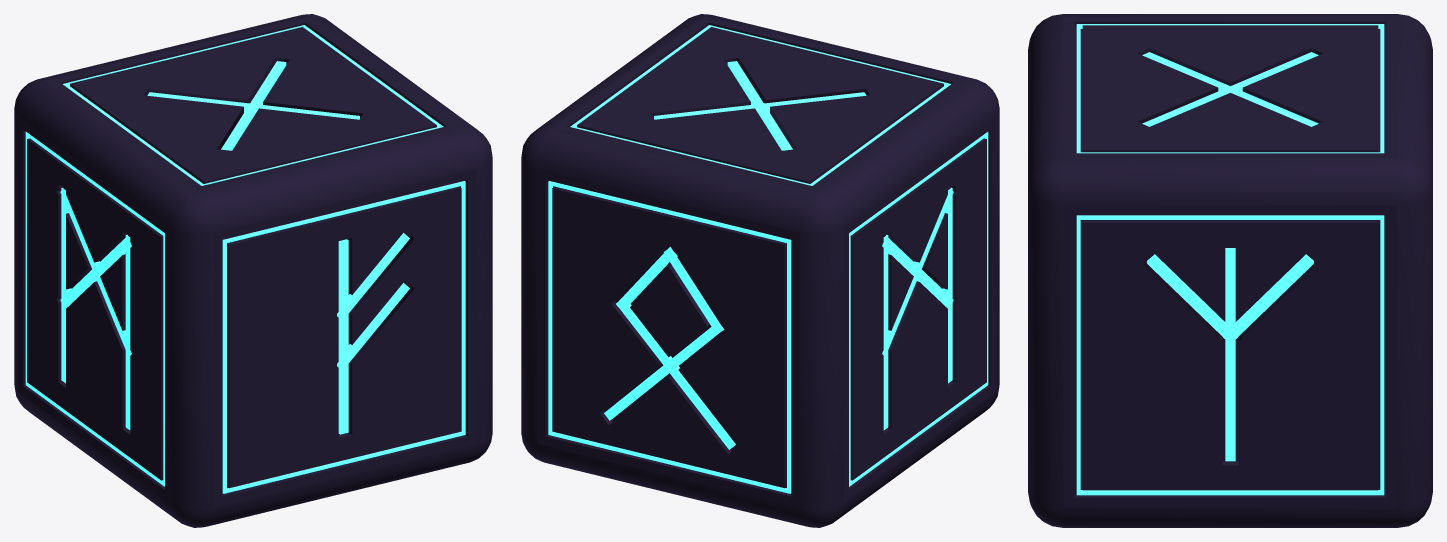
The model's file is anchor_stone.glb.
3 views of the same model, side by side, from view 1: azimuth 30°, elevation 25°; view 2: azimuth 150°, elevation 25°; view 3: azimuth 270°, elevation 25° (orthographic). The views are drawn at different scales.
Visible parts, largest first — view 1: anchor; view 2: anchor; view 3: anchor.
Part boxes in pixels (<box>): anchor: <box>14,14,492,527</box>; anchor: <box>521,14,999,527</box>; anchor: <box>1028,14,1432,527</box>.
Size of the model in its own units: 0.8 by 0.8 by 0.8.
